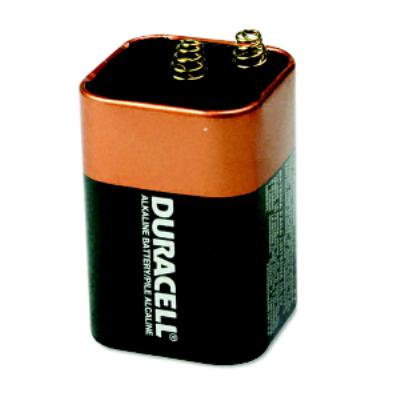6V: (69, 25, 312, 372)
